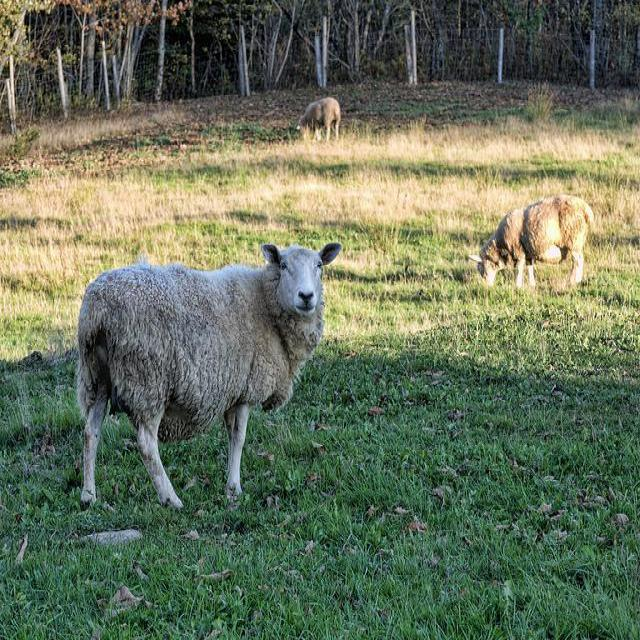Sheep: (77, 240, 347, 518), (479, 196, 597, 290), (296, 96, 342, 140)
